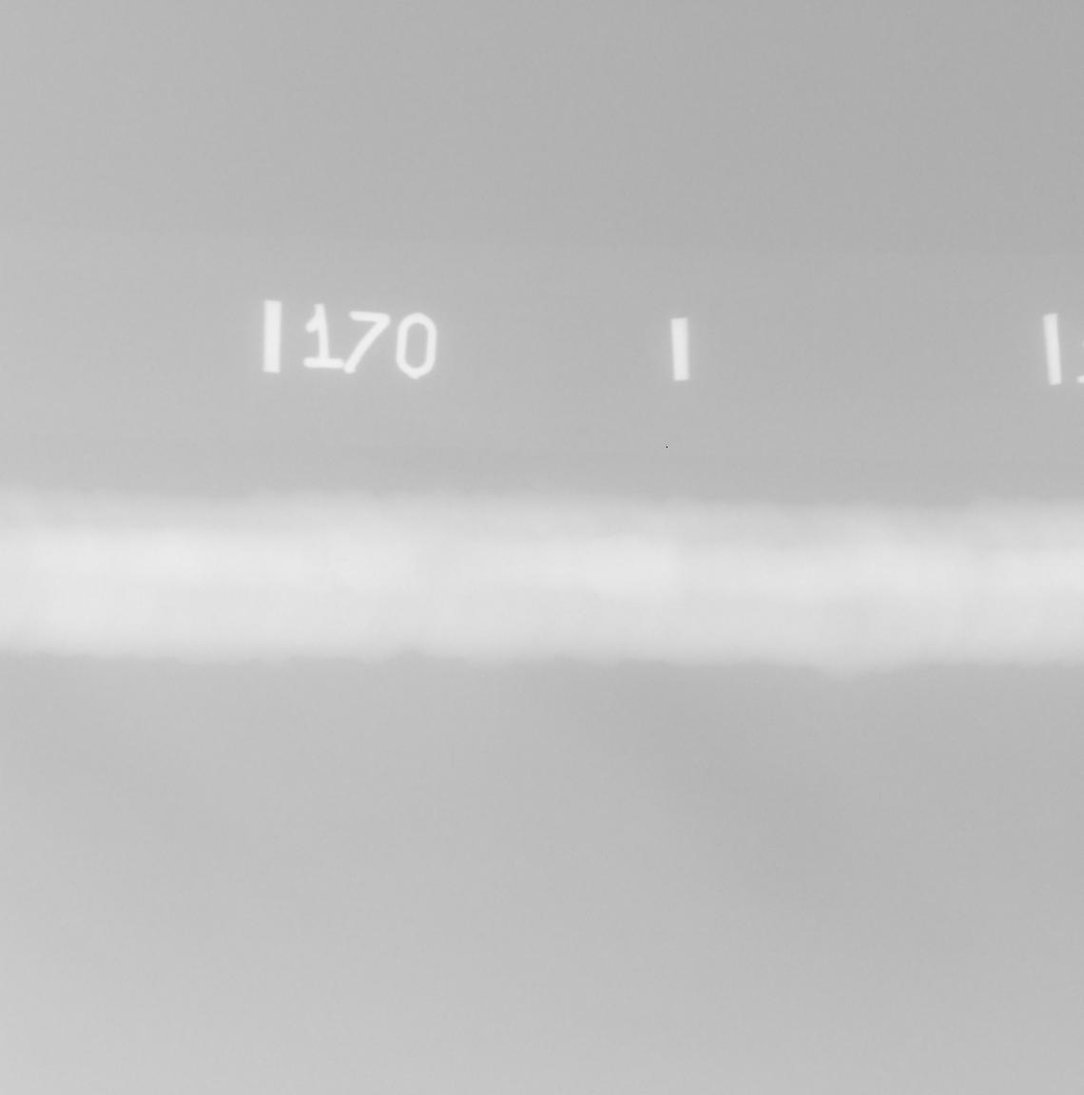Pore/Porosity: (340, 558, 347, 562)
